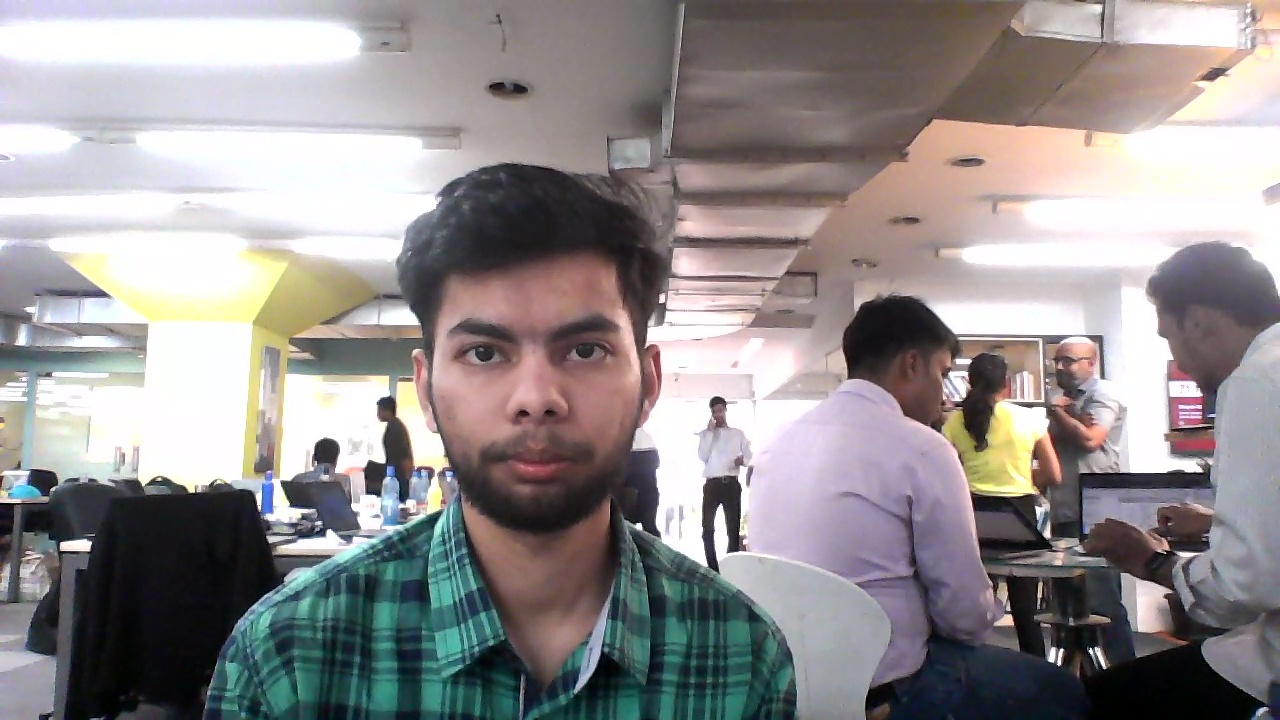open: (399, 188, 675, 548)
